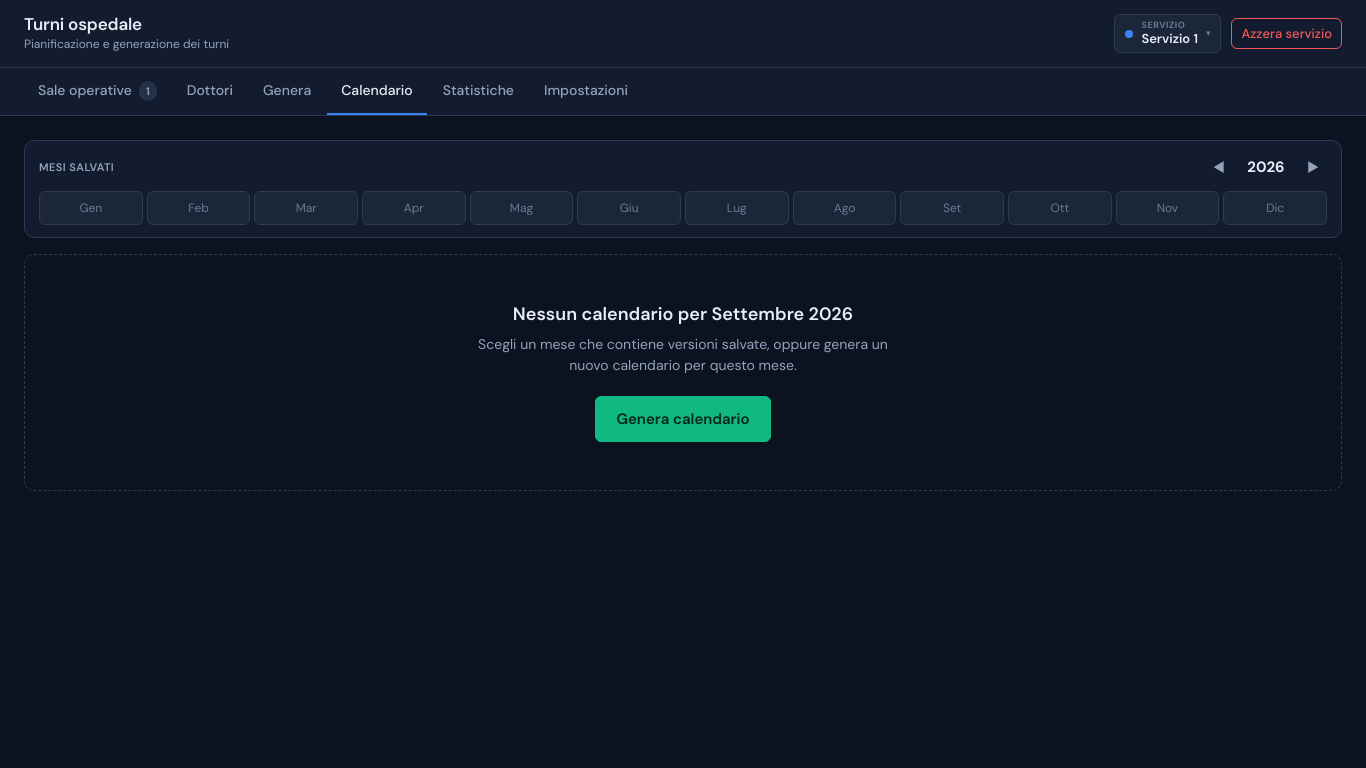
rotazione del servizio › non offre più il ciclo fra le rotazioni della sala
Step 1. Click the button "Sale operative 1" → (97, 92), box [24,68,171,115]
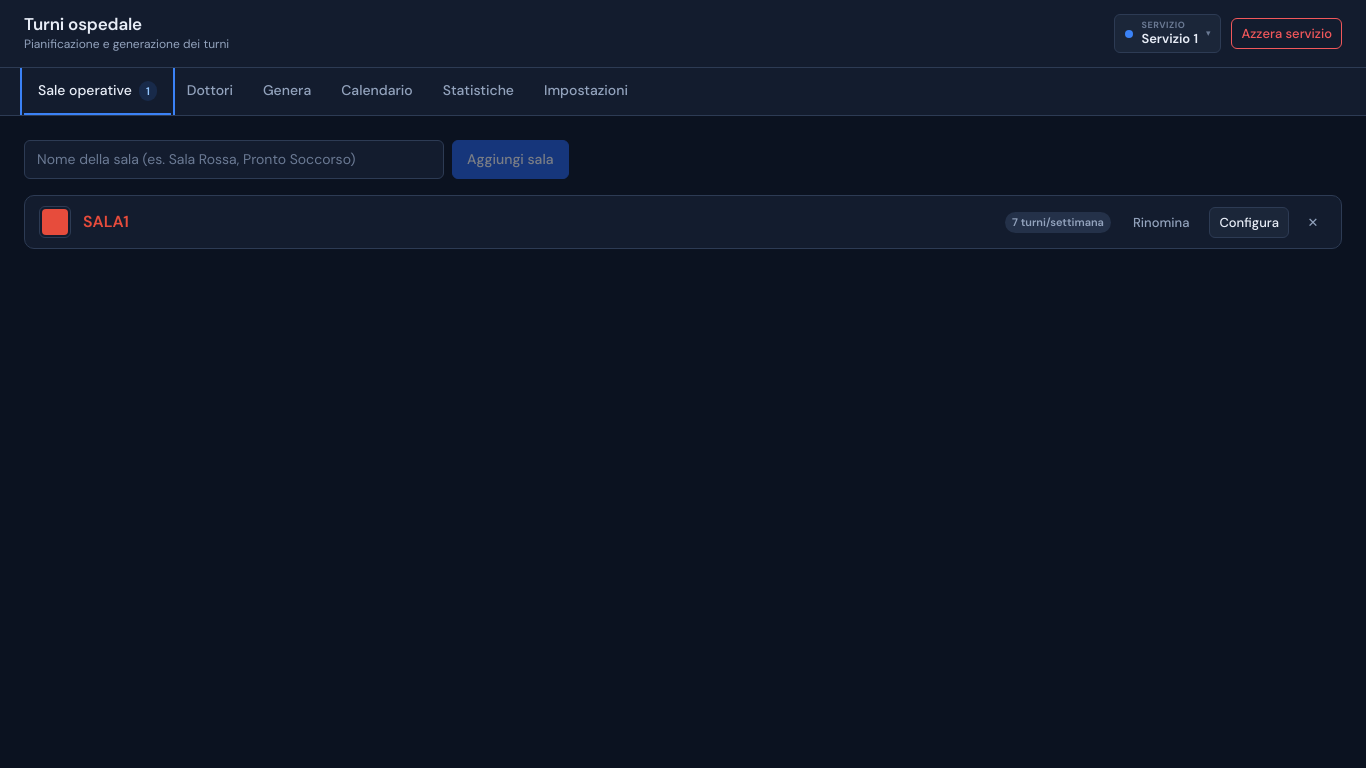
Step 2. Click the button "Configura" → (1249, 222), box [1209,206,1289,238]
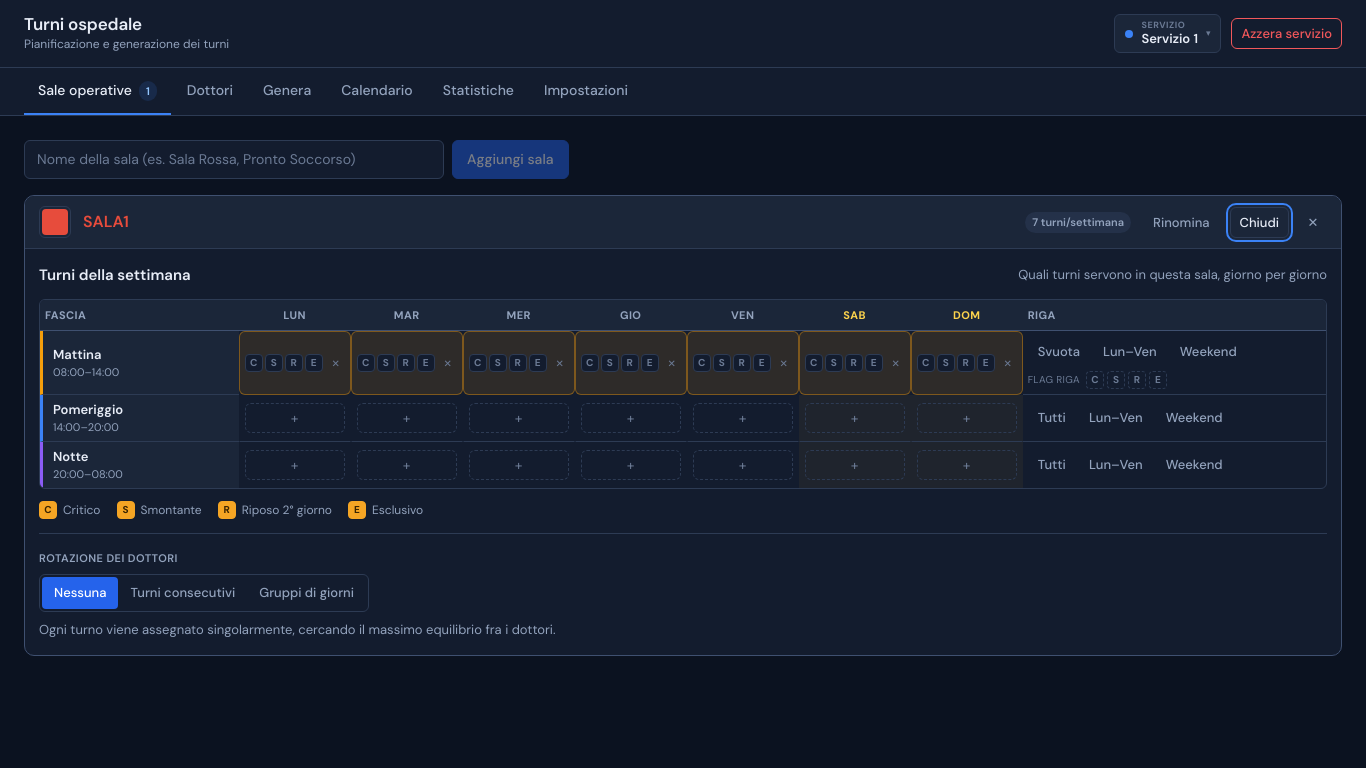
Expected: the button "Turni consecutivi" is shown, [118,577,247,609]
Expected: the button "Gruppi di giorni" is shown, [247,577,366,609]
